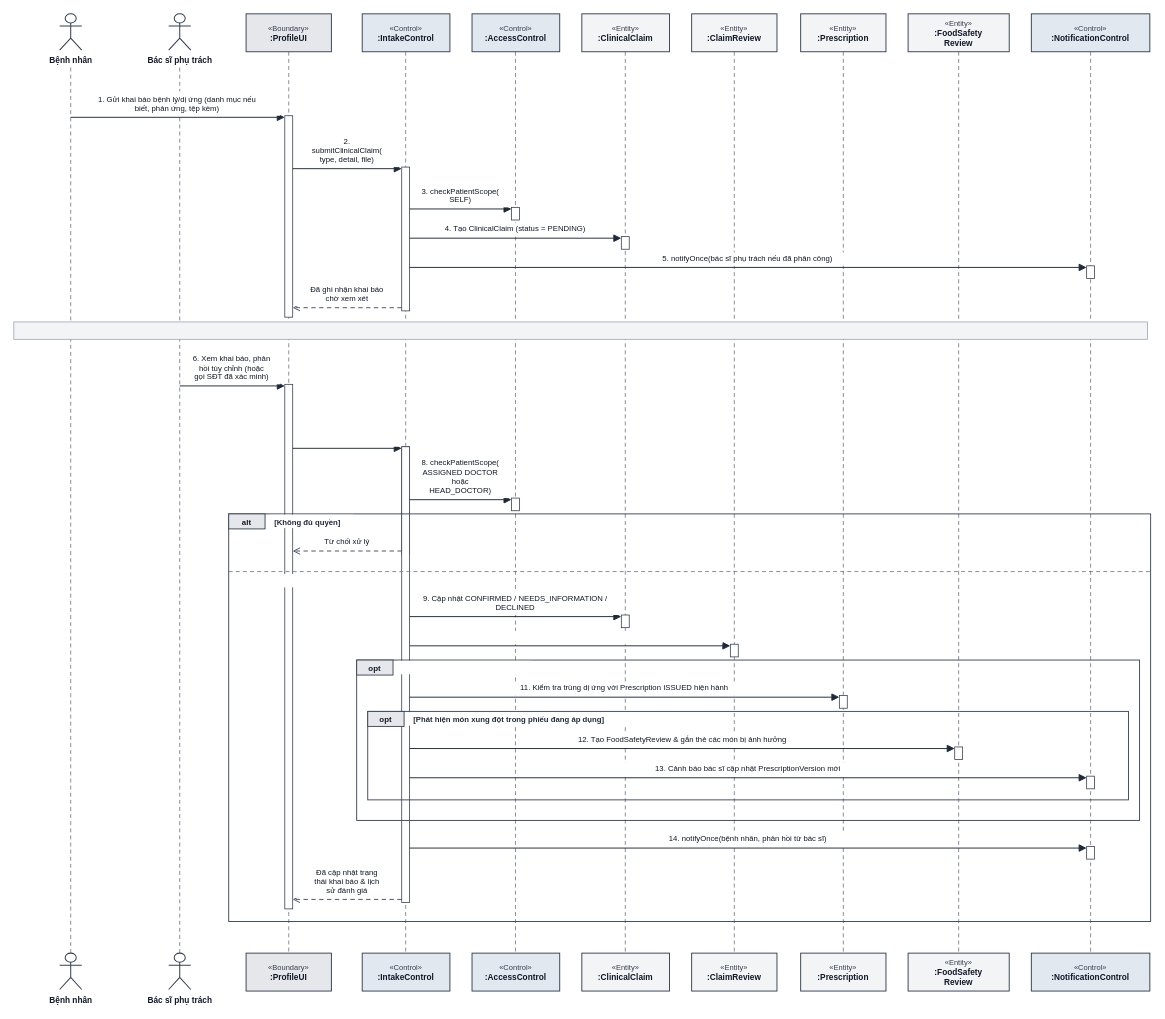
This 1165x1019 diagram has some shape labels left out. The shapes that lost their labels are listed below. From the top down, each one's centre as x and y in pixels, then its label:
At [580,330]: "Bác sĩ phụ trách xem xét khai báo và kiểm tra an toàn thực đơn".
At [346,423]: "7. reviewClaim(claimId, decision, responseText)".
At [265,580]: "[Được phép]".
At [570,637]: "10. Lưu lịch sử ClaimReview (reviewer, reviewedAt, responseText)".
At [464,667]: "[Dị ứng mới được CONFIRMED]".
